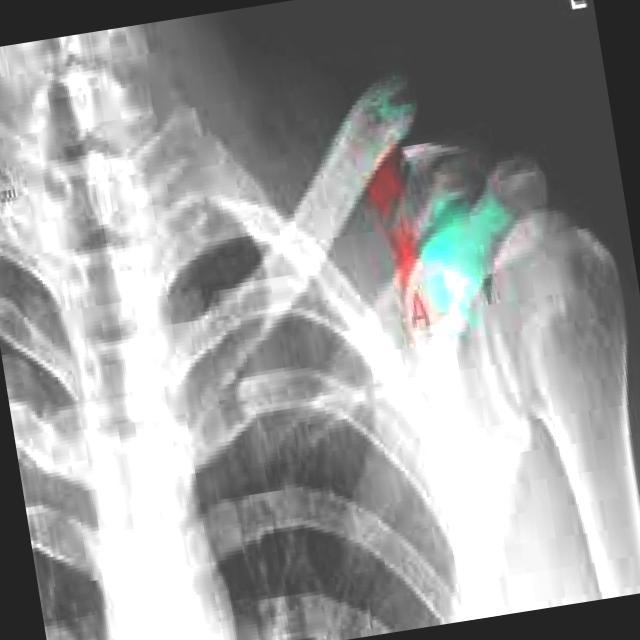Comminuted Fracture: (355, 81, 553, 266)
